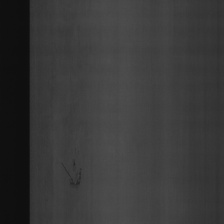water_spot: (63, 143, 84, 194)
